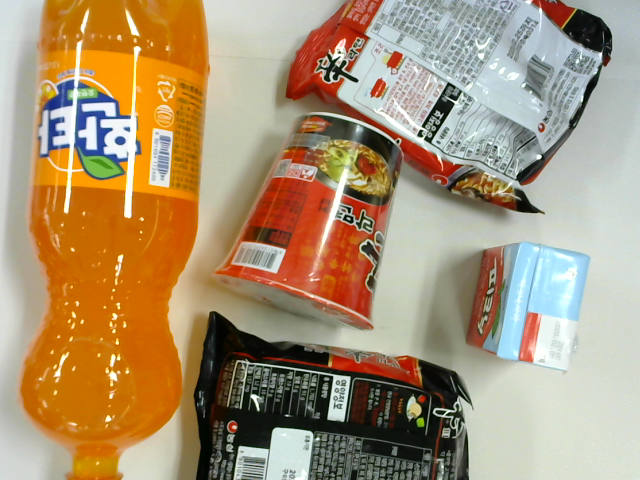Hwanta_Orange_1.5L: (14, 1, 209, 477)
Picnic_Apple: (464, 241, 591, 372)
Sinramen: (285, 1, 613, 214)
Sinramen_Black: (192, 311, 473, 480)
Sinramen_small: (214, 111, 403, 333)
